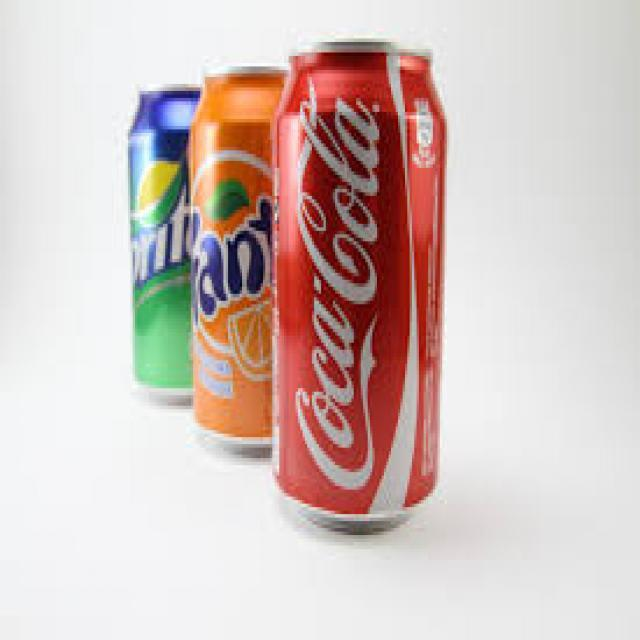coca-cola: (273, 39, 451, 538)
